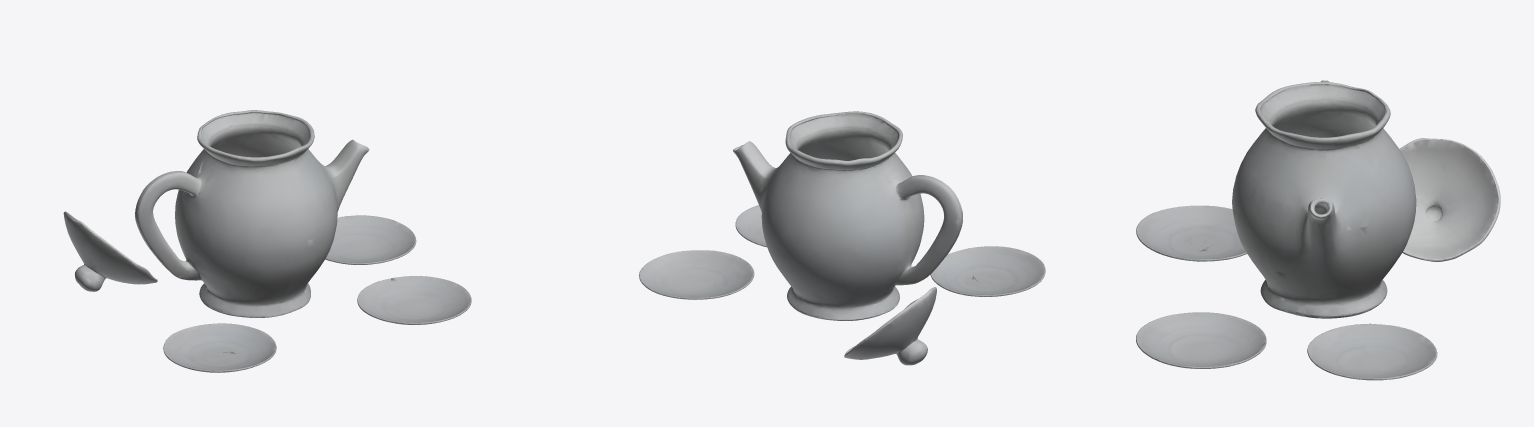
The model's file is rodin.glb.
The picture shows the model from 3 angles, left to right: view 1: azimuth 30°, elevation 25°; view 2: azimuth 150°, elevation 25°; view 3: azimuth 270°, elevation 25°; orthographic projection. The views are drawn at different scales.
Visible parts, largest first — view 1: model; view 2: model; view 3: model.
Boxes of the visible parts, x1=… form: model: x1=63, y1=110, x2=471, y2=372; model: x1=639, y1=111, x2=1045, y2=365; model: x1=1136, y1=80, x2=1500, y2=380.
Size of the model in its own units: 1.1 by 0.5618 by 0.9811.
Materials: 2 (1 with a texture image).
